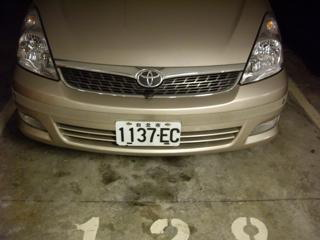plate: (115, 119, 184, 147)
